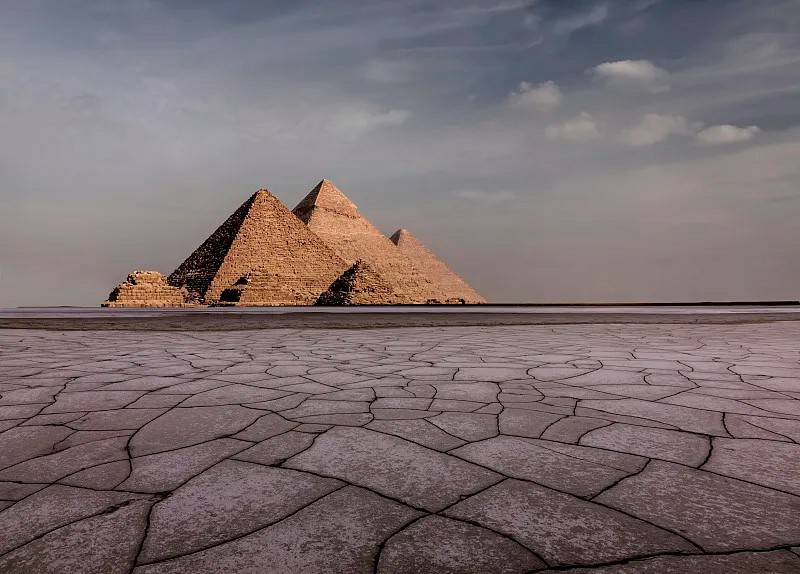Pyramid: (168, 187, 350, 306), (292, 179, 458, 306), (389, 229, 487, 304), (318, 259, 416, 305), (216, 268, 311, 307), (100, 270, 191, 309)
